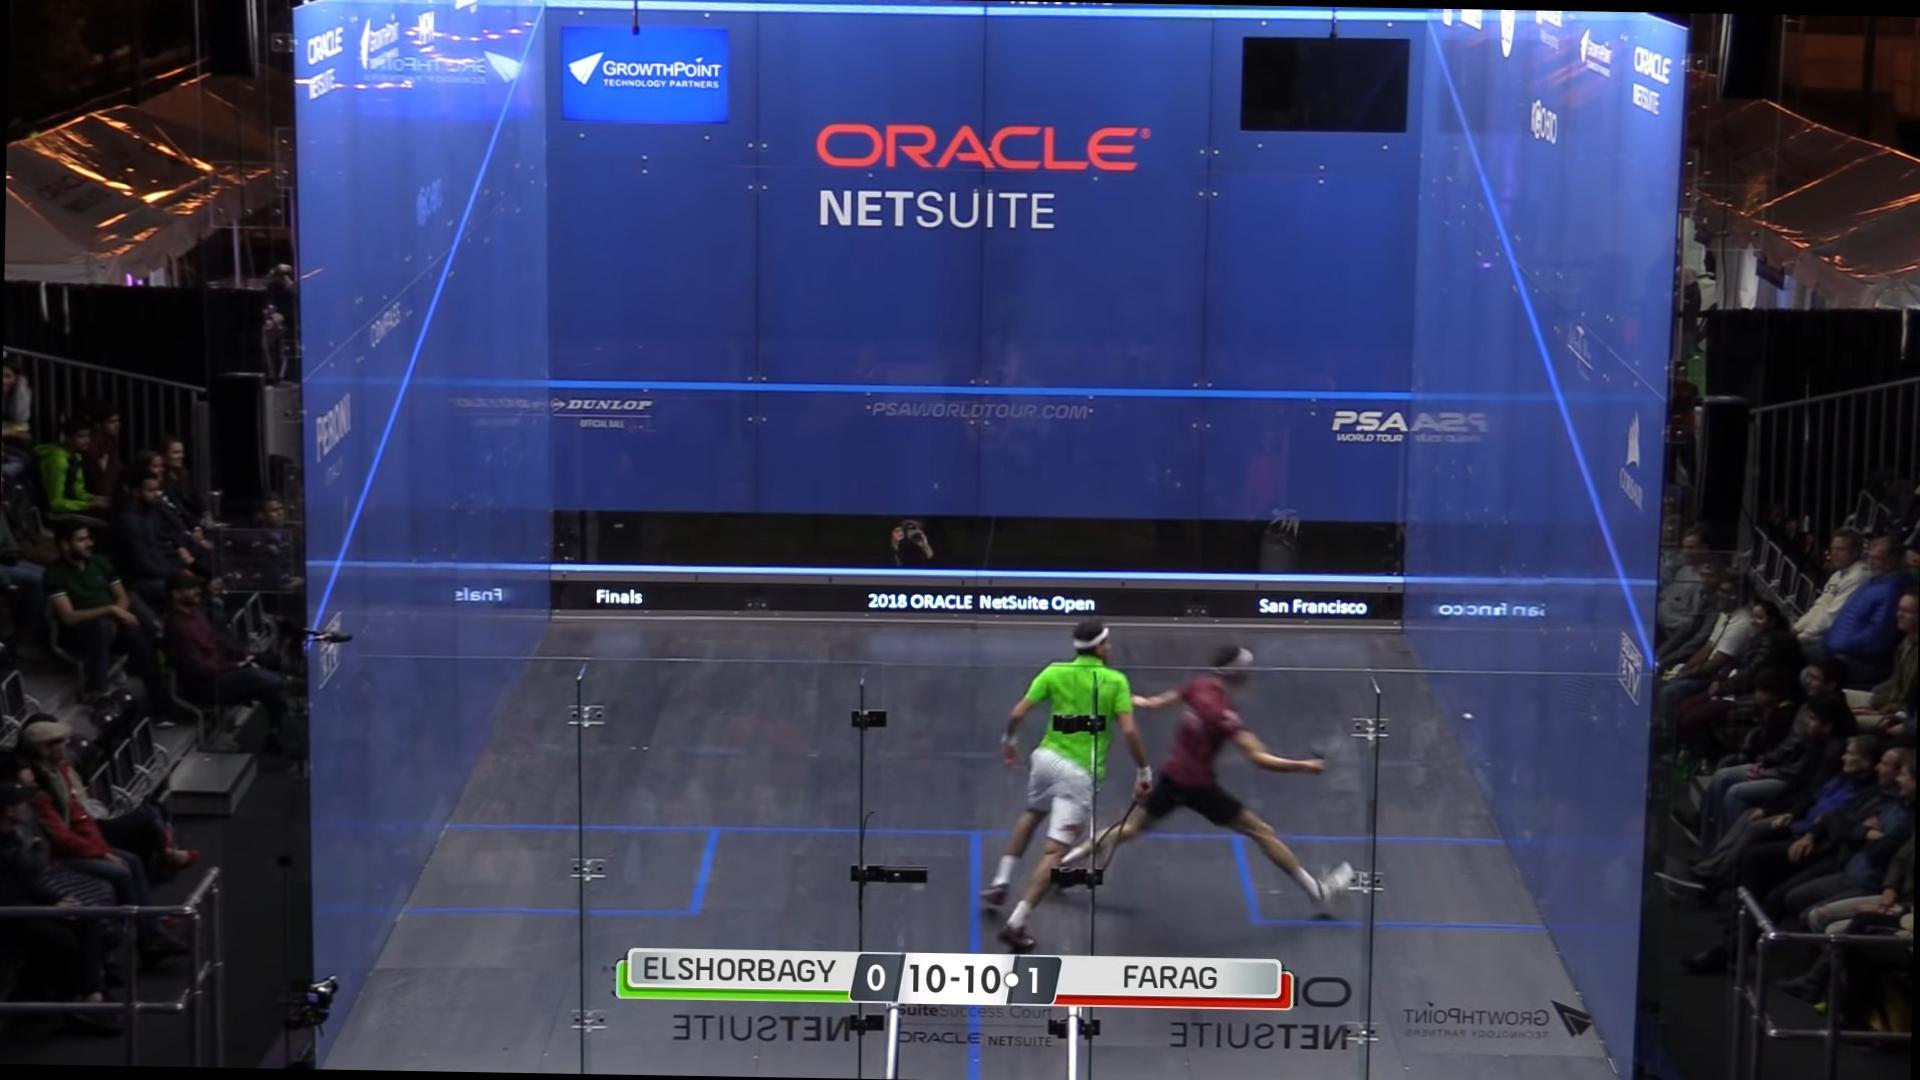Squash-Ball: (1445, 700, 1487, 732)
